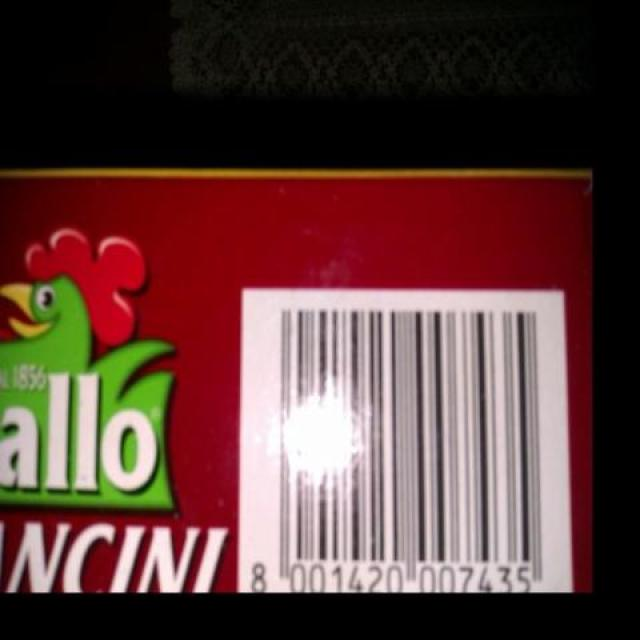Barcode: (241, 287, 574, 593)
